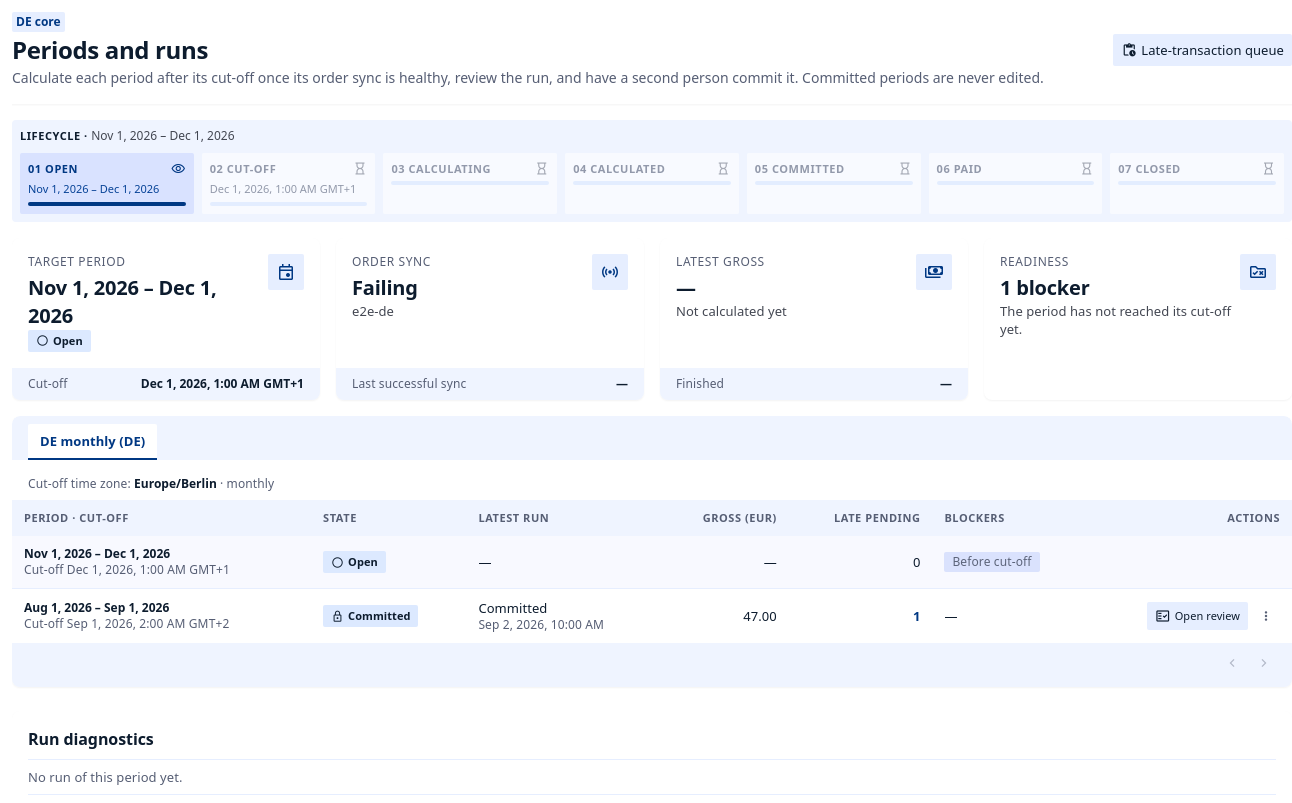
Test case: PeriodsPage (SC-01) › replays a committed period and shows the verdict with its hashes
The image size is (1292, 803).
Click the button named "More actions for Aug 1, 2026 – Sep 1, 2026" at (1266, 616), box [1252,602,1280,630]
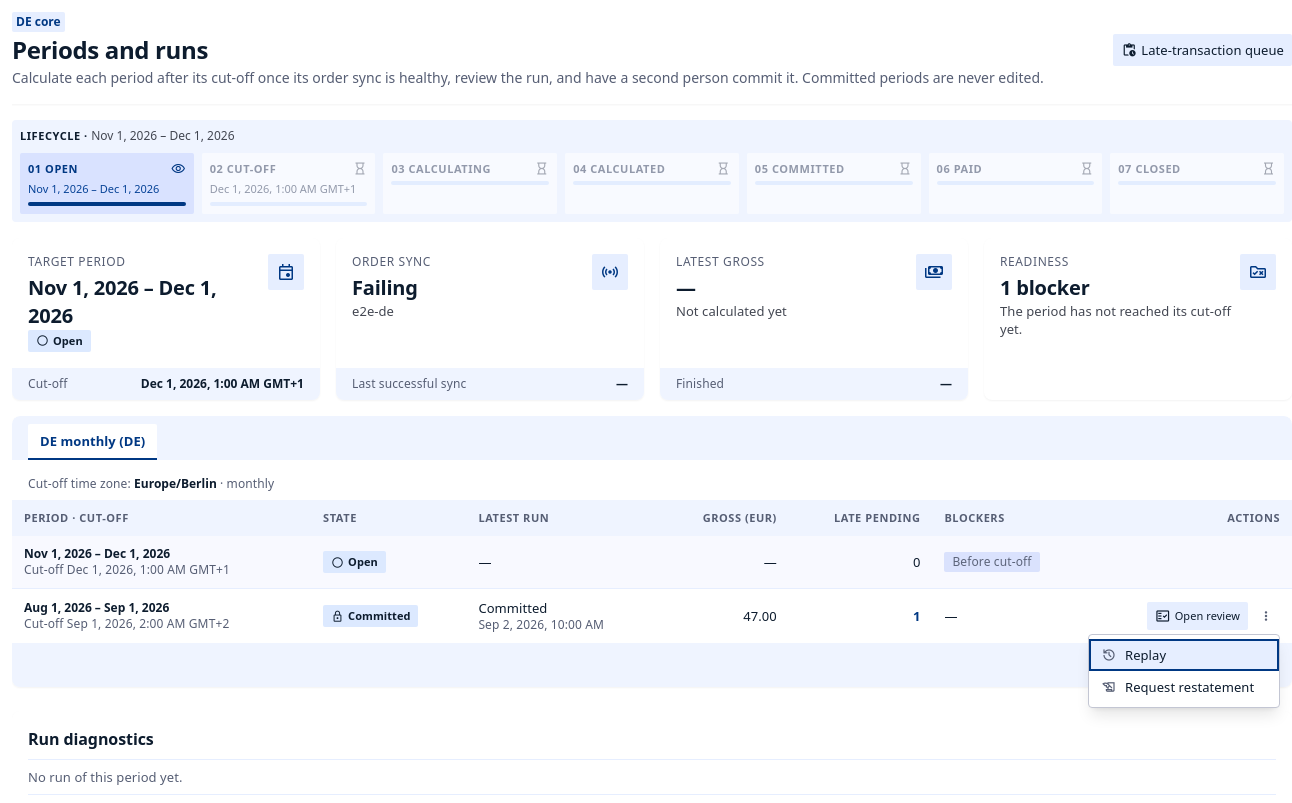
Click the menu item "Replay" at (1184, 655), box [1089,639,1279,671]
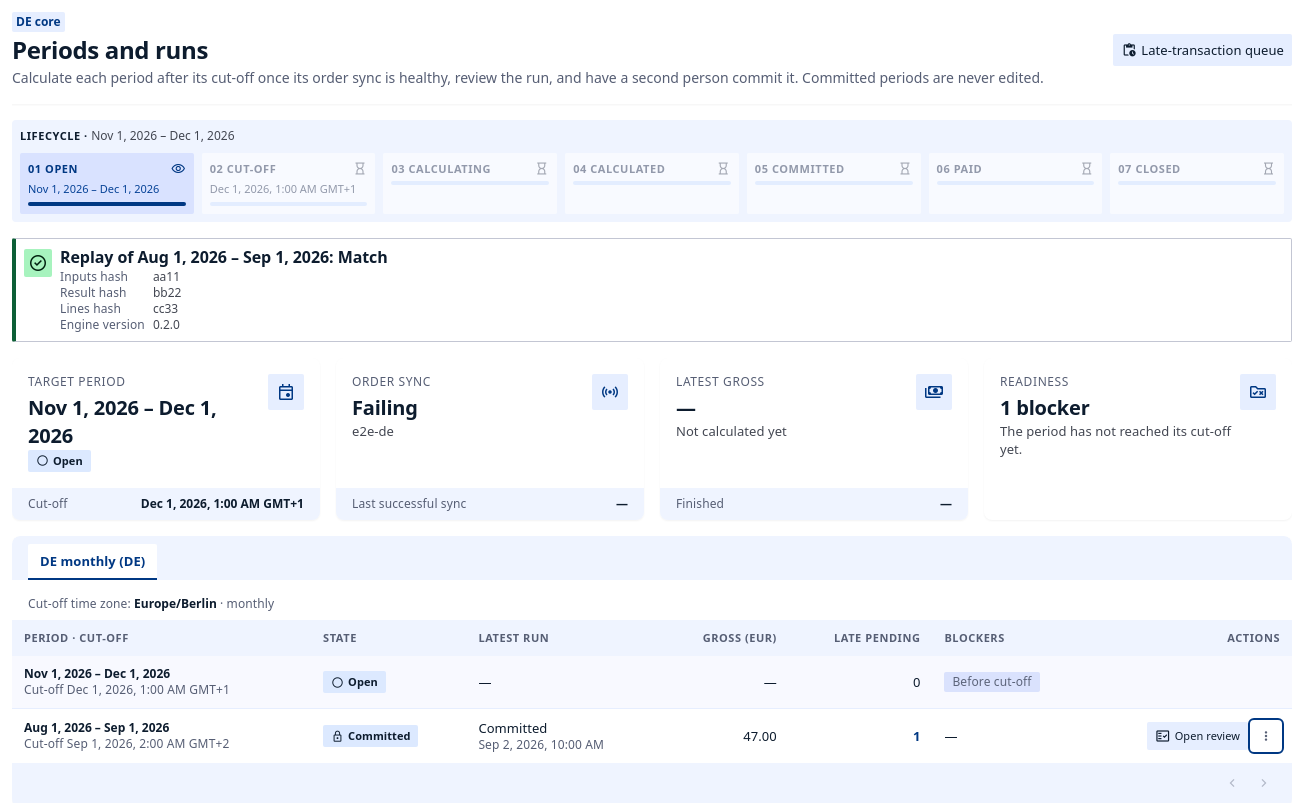
Result: the text "Replay of Aug 1, 2026 – Sep 1, 2026: Match" is shown at [60,246,388,266]
Result: the element with test id "replay-hashes" shows "cc33" at [153,300,178,316]
